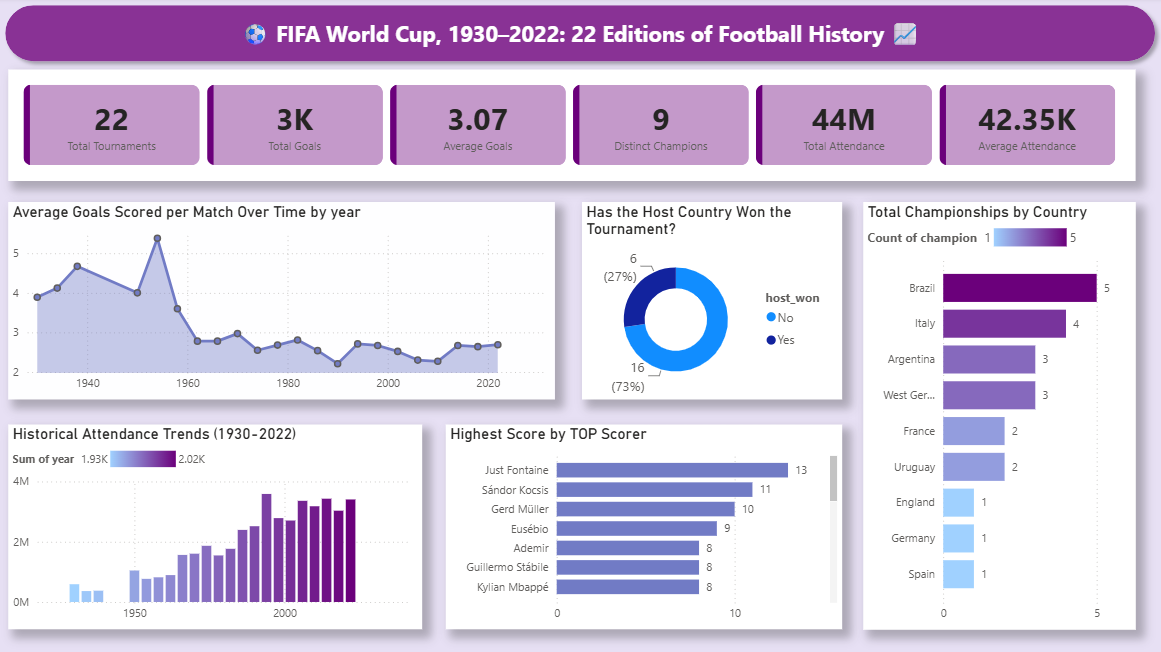

The page's visual inventory and layout, read from the dashboard file:
{"tool":"powerbi","page":{"name":"Page 2","canvas":[1280,720],"ordinal":1},"visuals":[{"type":"shape","box":[9.6,211.3,1270.7,137.2],"z":0},{"type":"cardVisual","fields":{"Data":["wc_all_editions.distinct champions"]},"box":[561.2,16.5,205.8,108.4],"z":1000},{"type":"cardVisual","fields":{"Data":["wc_all_editions.total editions"]},"box":[31.6,57.6,178.4,108.4],"z":2000},{"type":"cardVisual","fields":{"Data":["wc_all_editions.average attendance"]},"box":[1043.2,58.5,197.6,108.4],"z":3000},{"type":"cardVisual","fields":{"Data":["wc_all_editions.total attendance"]},"box":[817.8,59,203.1,108.4],"z":4000},{"type":"cardVisual","fields":{"Data":["wc_all_editions.Total goals"]},"box":[221.2,58.5,172.9,108.4],"z":5000},{"type":"cardVisual","fields":{"Data":["wc_all_editions.average goals"]},"box":[413.3,58.5,166,108.4],"z":6000},{"type":"donutChart","title":" Has the Host Country Won the Tournament?","fields":{"Y":["CountNonNull(wc_all_editions.champion)"],"Category":["wc_all_editions.host_won"]},"box":[285.4,473.4,227.8,170.2],"z":7000},{"type":"cardVisual","fields":{"Data":["wc_all_editions.HOst_won_rate%"]},"box":[45.3,481.6,196.2,153.7],"z":8000},{"type":"textbox","box":[695.7,568.1,458.3,52.1],"z":9000},{"type":"cardVisual","fields":{"Data":["wc_all_editions.HOst_won_rate%"]},"box":[55.3,491.6,196.2,153.7],"z":10000}]}

Visuals, with their boxes in screenshot pixels (x1, y1, x2, y2), scaled from the page's 1280x720 canvas onto the 1161x652 screenshot:
shape: rect(9, 191, 1160, 316)
cardVisual - wc_all_editions.distinct champions: rect(509, 15, 696, 113)
cardVisual - wc_all_editions.total editions: rect(29, 52, 190, 150)
cardVisual - wc_all_editions.average attendance: rect(946, 53, 1125, 151)
cardVisual - wc_all_editions.total attendance: rect(742, 53, 926, 152)
cardVisual - wc_all_editions.Total goals: rect(201, 53, 357, 151)
cardVisual - wc_all_editions.average goals: rect(375, 53, 525, 151)
" Has the Host Country Won the Tournament?" donutChart: rect(259, 429, 465, 583)
cardVisual - wc_all_editions.HOst_won_rate%: rect(41, 436, 219, 575)
textbox: rect(631, 514, 1047, 562)
cardVisual - wc_all_editions.HOst_won_rate%: rect(50, 445, 228, 584)
